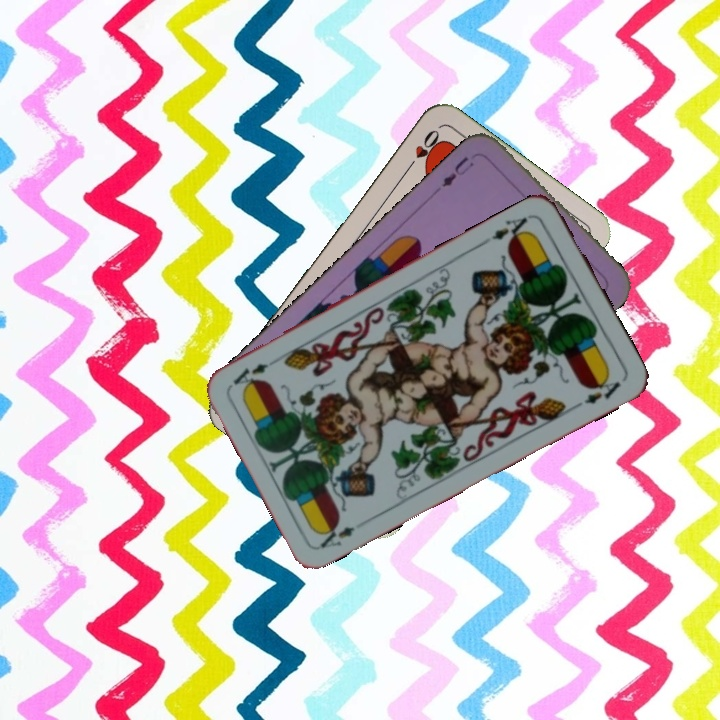EA: (480, 210, 535, 247), (313, 519, 358, 551)
EU: (438, 152, 477, 190)
HO: (401, 125, 443, 175)
